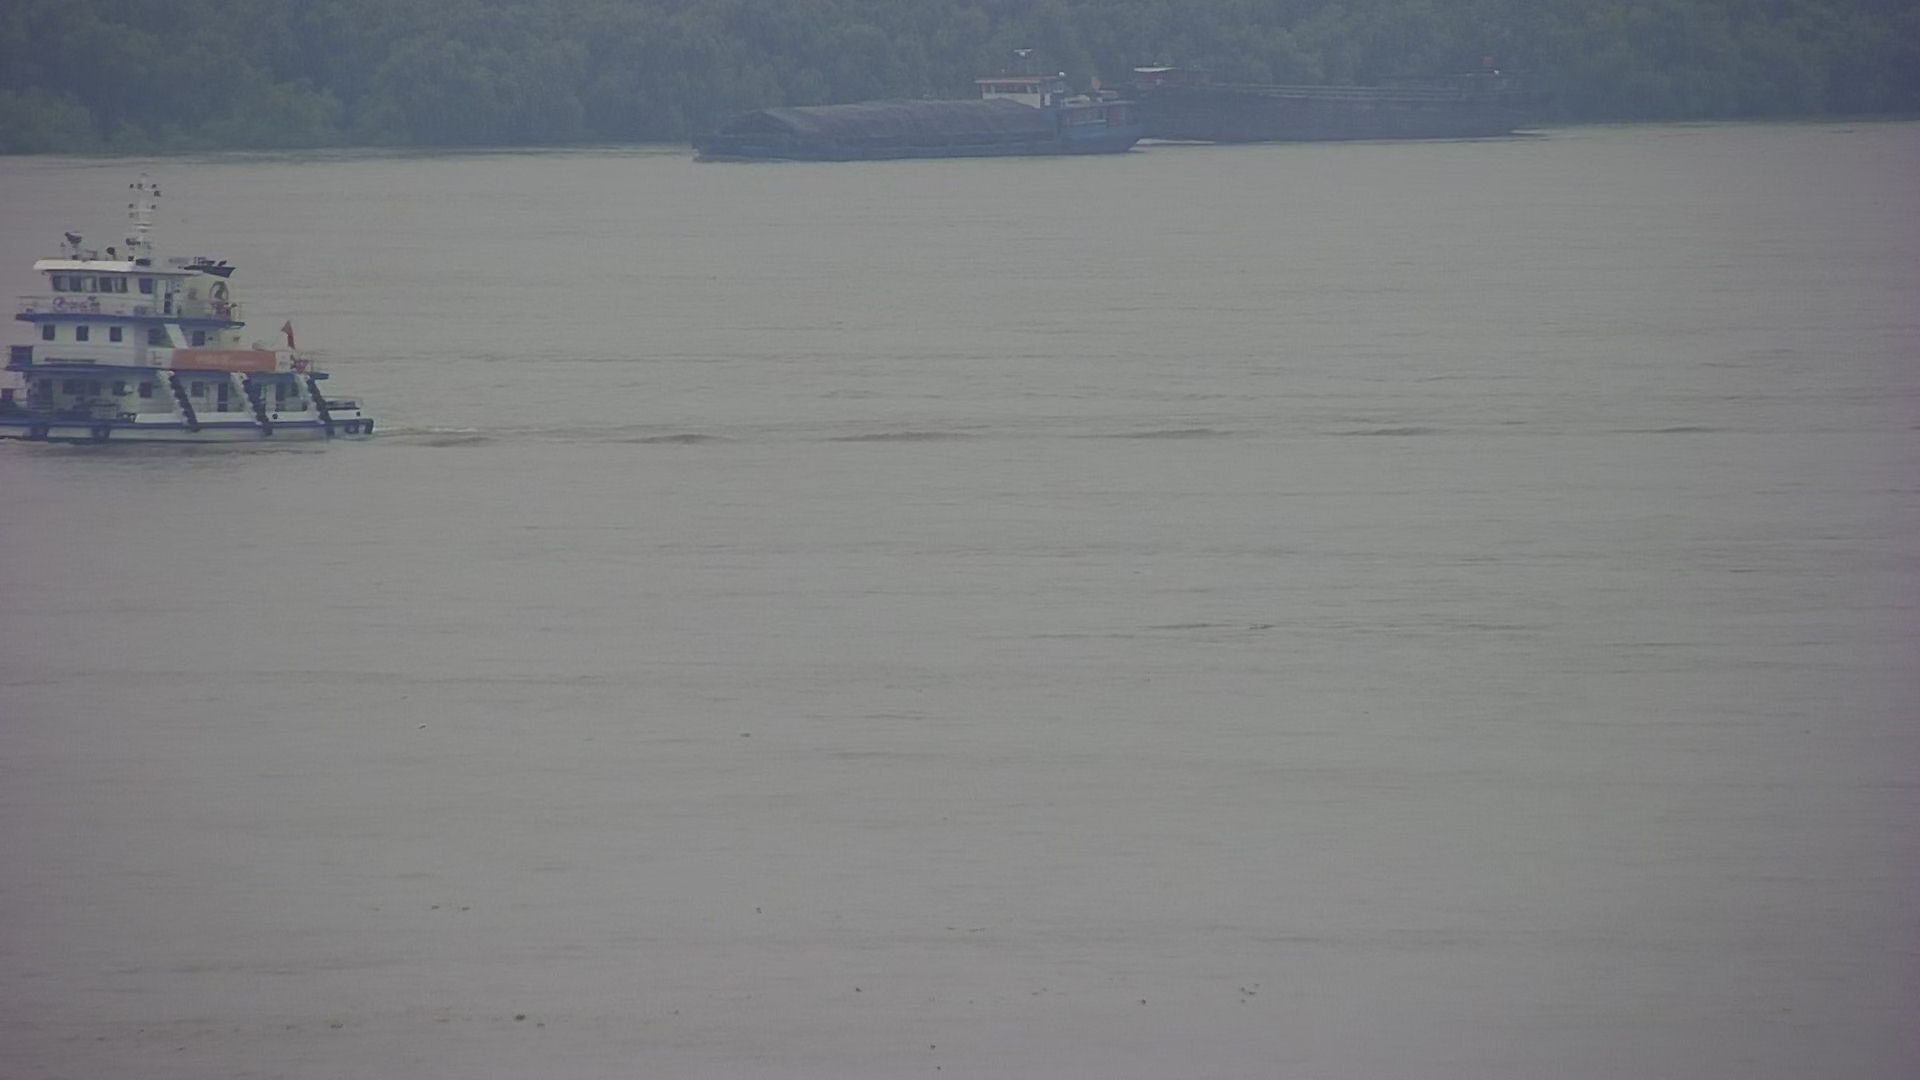ship: (1, 167, 404, 454), (1133, 21, 1598, 158), (683, 50, 1164, 169)
